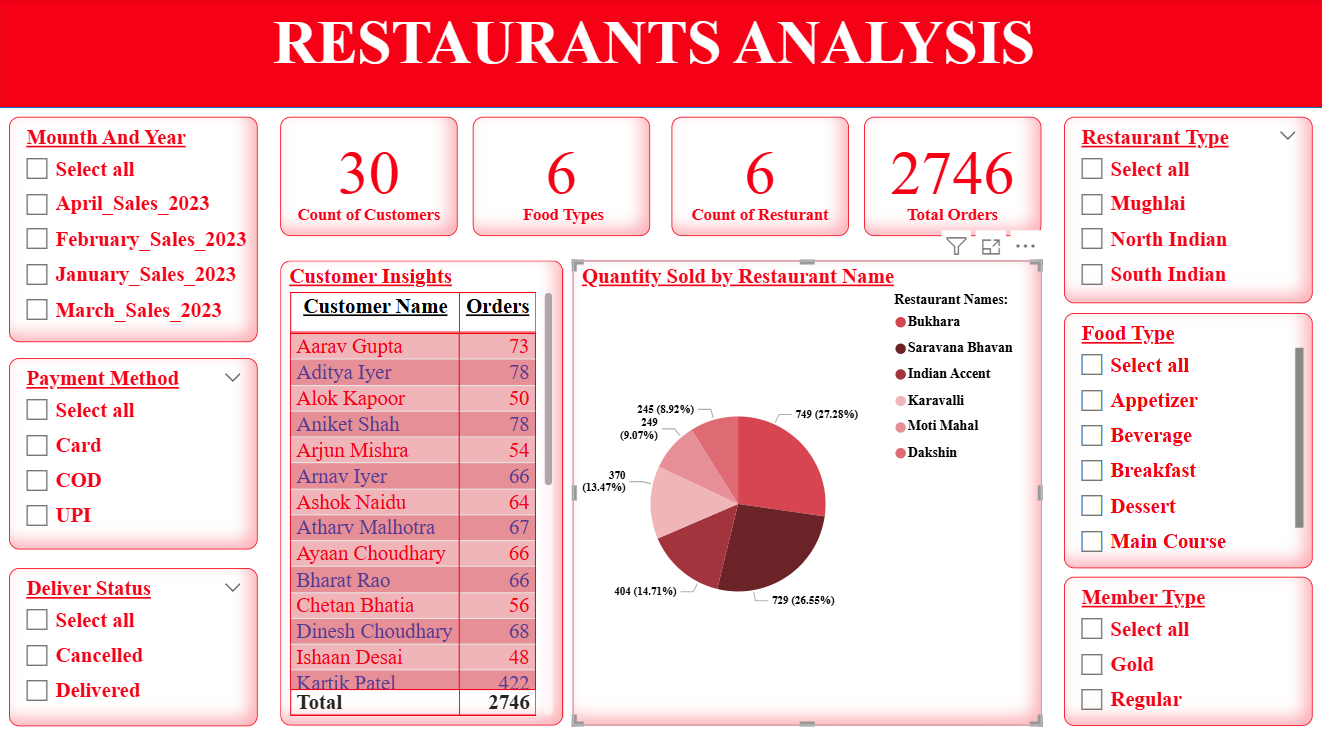

The page's visual inventory and layout, read from the dashboard file:
{"tool":"powerbi","page":{"name":"DashBoard","canvas":[1280,720],"ordinal":0},"visuals":[{"type":"shape","box":[0,0,1280,106.2],"z":0},{"type":"textbox","box":[259.4,4.8,818,95.3],"z":1000},{"type":"card","fields":{"Values":["Resturant_Details.Resturant_Code"]},"box":[648.8,115,171.2,115],"z":2000},{"type":"card","fields":{"Values":["Food_Details.Food_Type"]},"box":[457.5,115,171.2,115],"z":3000},{"type":"card","fields":{"Values":["Orders Data.customer_id"]},"box":[271.2,115,171.2,115],"z":4000},{"type":"slicer","fields":{"Values":["Orders Data.Mounth And Year"]},"box":[10,115,240,217.5],"z":5000},{"type":"card","fields":{"Values":["Orders Data.order_id"]},"box":[835,115,171.2,115],"z":6000},{"type":"slicer","fields":{"Values":["Orders Data.payment_method"]},"box":[10,347.5,240,185],"z":7000},{"type":"slicer","fields":{"Values":["Orders Data.deliver_status"]},"box":[10,550,240,152.5],"z":8000},{"type":"slicer","fields":{"Values":["Resturant_Details.Resturant_type"]},"box":[1027.5,115,240,180],"z":9000},{"type":"slicer","fields":{"Values":["Food_Details.Food_Type"]},"box":[1027.5,303.8,240,246.2],"z":10000},{"type":"tableEx","title":"Customer Insights","fields":{"Values":["Customer Details.customer_name","Orders Data.order_id"]},"box":[271.2,253.8,272.5,448.8],"z":11000},{"type":"slicer","fields":{"Values":["Customer Details.member_Type"]},"box":[1027.5,558.8,240,143.8],"z":12000},{"type":"pieChart","fields":{"Category":["Resturant_Details.Resturant_Name"],"Y":["Orders Data.quantity"]},"box":[553.8,253.8,452.5,448.8],"z":13000}]}

Visuals, with their boxes in screenshot pixels (x1, y1, x2, y2), scaled from the page's 1280x720 canvas onto the 1322x731 screenshot:
shape: 0, 0, 1321, 108
textbox: 268, 5, 1113, 102
card - Resturant_Details.Resturant_Code: 670, 117, 847, 234
card - Food_Details.Food_Type: 473, 117, 649, 234
card - Orders Data.customer_id: 280, 117, 457, 234
slicer - Orders Data.Mounth And Year: 10, 117, 258, 338
card - Orders Data.order_id: 862, 117, 1039, 234
slicer - Orders Data.payment_method: 10, 353, 258, 541
slicer - Orders Data.deliver_status: 10, 558, 258, 713
slicer - Resturant_Details.Resturant_type: 1061, 117, 1309, 300
slicer - Food_Details.Food_Type: 1061, 308, 1309, 558
"Customer Insights" tableEx: 280, 258, 562, 713
slicer - Customer Details.member_Type: 1061, 567, 1309, 713
pieChart - Resturant_Details.Resturant_Name x Orders Data.quantity: 572, 258, 1039, 713
